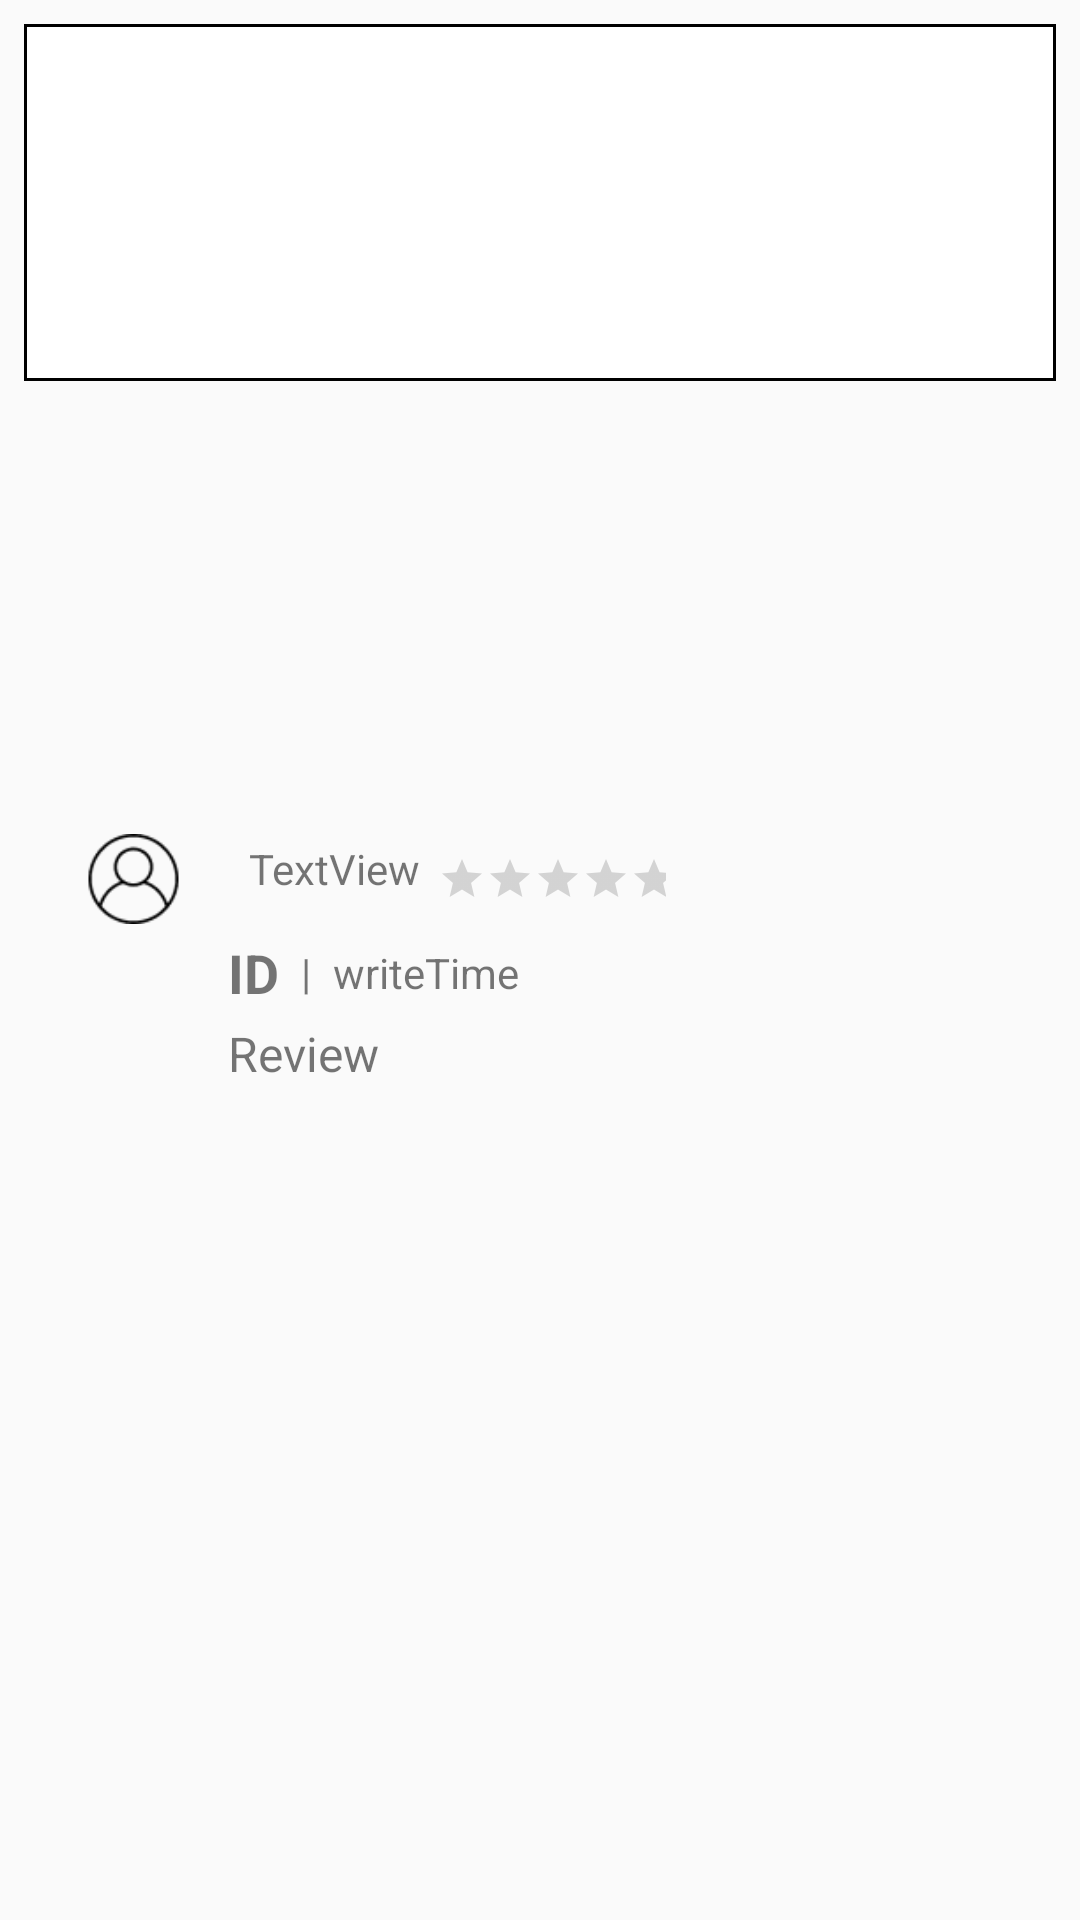

Icons on this 1080 x 1920 Android screen, each with the point to tap as (x,y):
infouser: (133,879)
